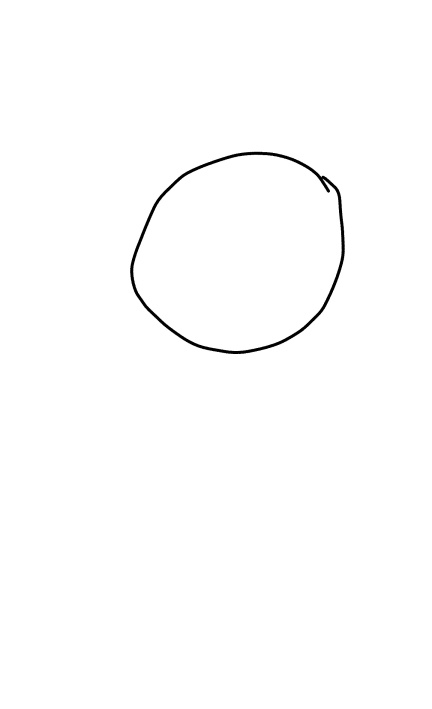Circle: (122, 143, 349, 360)
